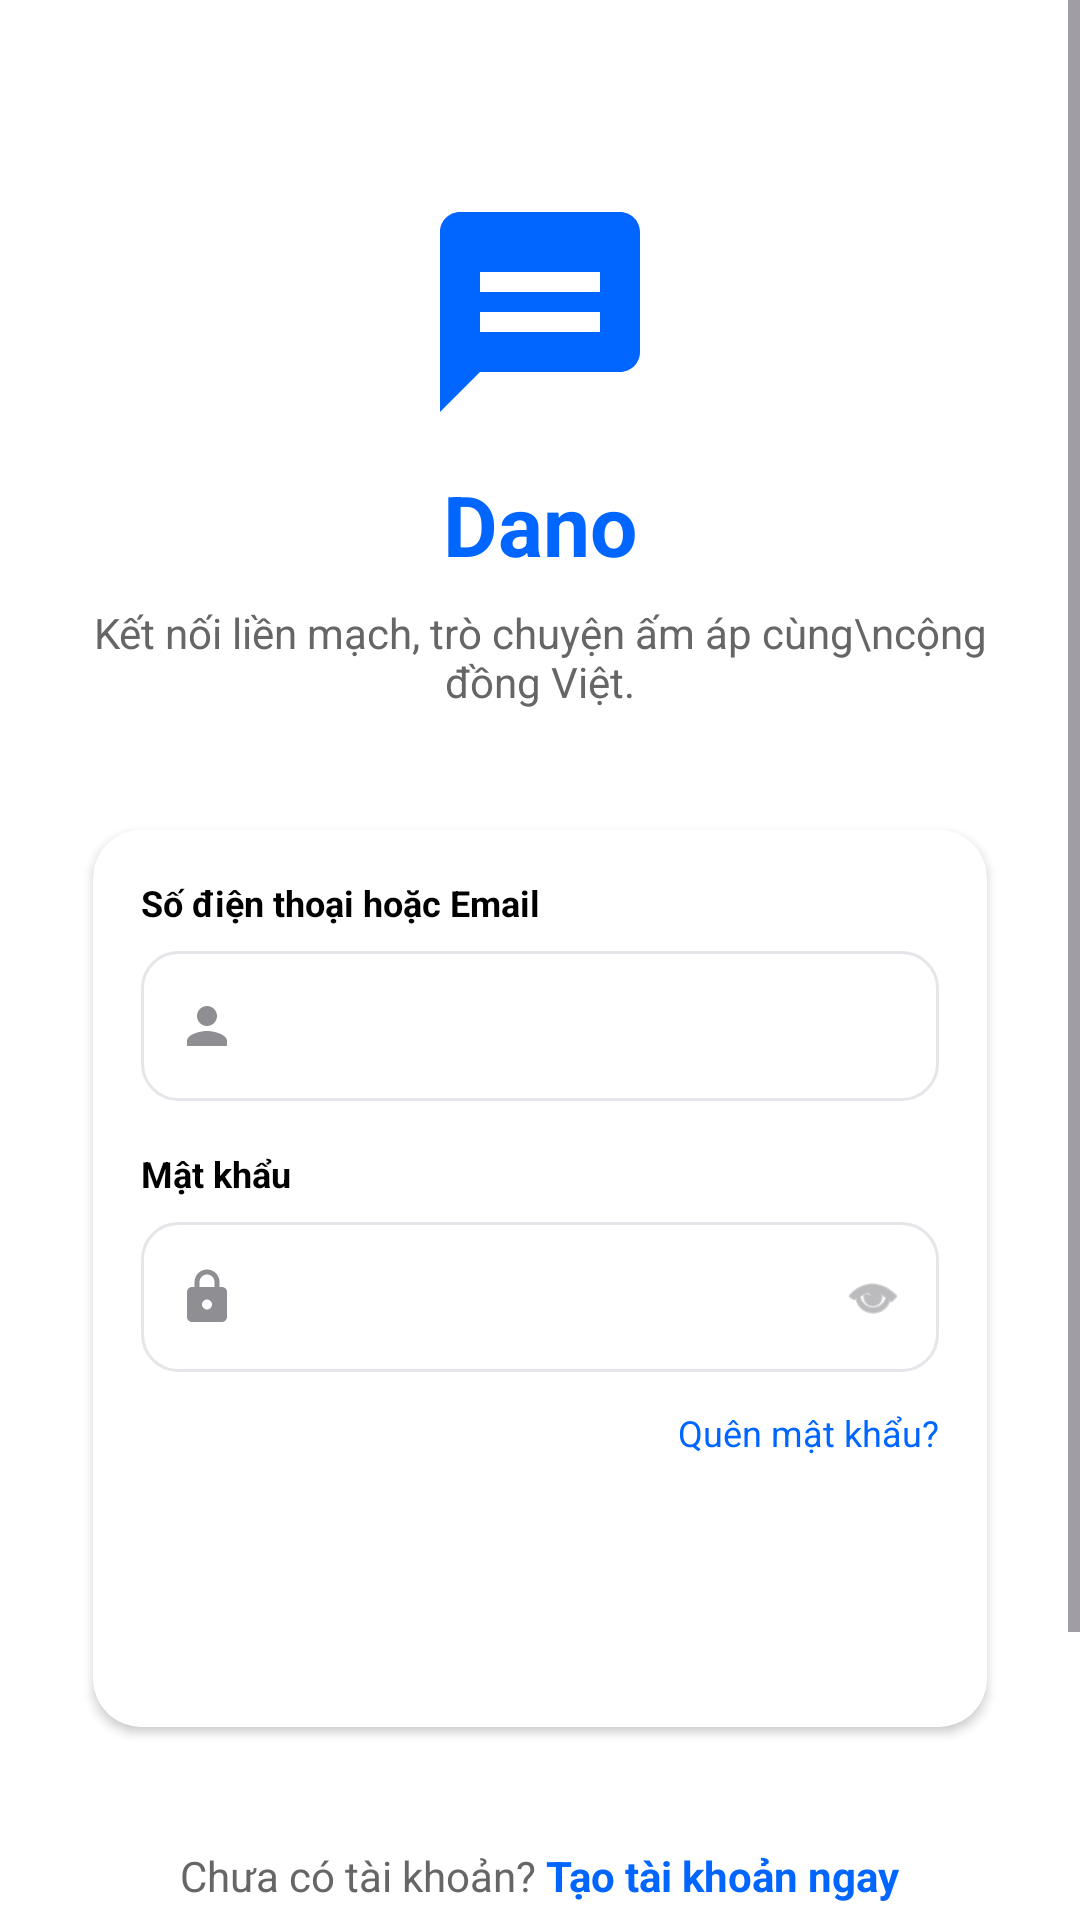

Icons on this 1080×1920 Android screen, each with the point to tap as (x,y):
lock: (207,1295)
person: (207,1026)
view: (873,1298)
